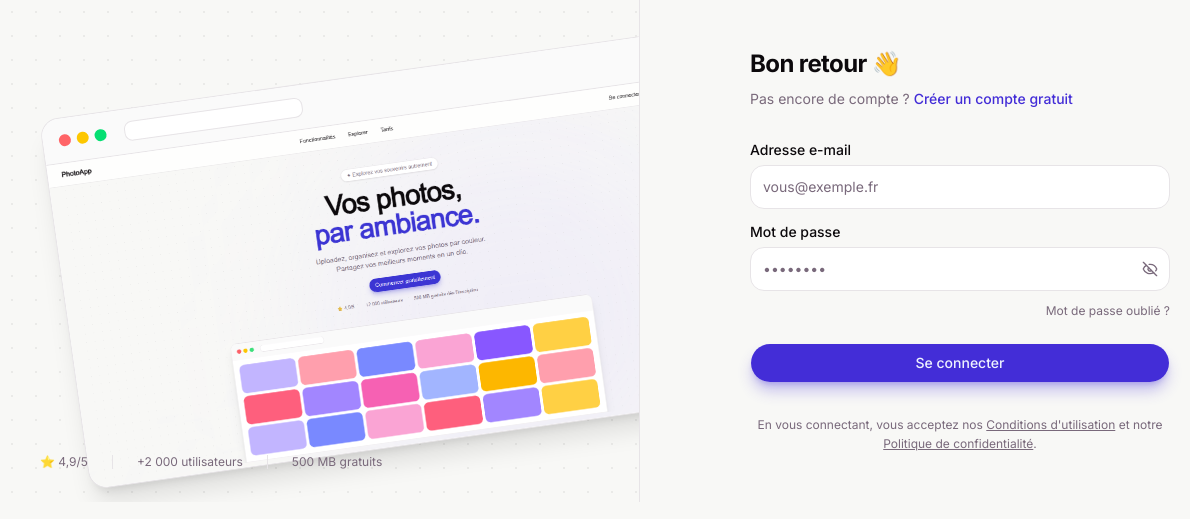
it: LoginPage › affiche "Connexion..." pendant la requête en attente
Type "user@example.com" into the field labelled "Adresse e-mail" at (960,187), box [750,165,1170,209]
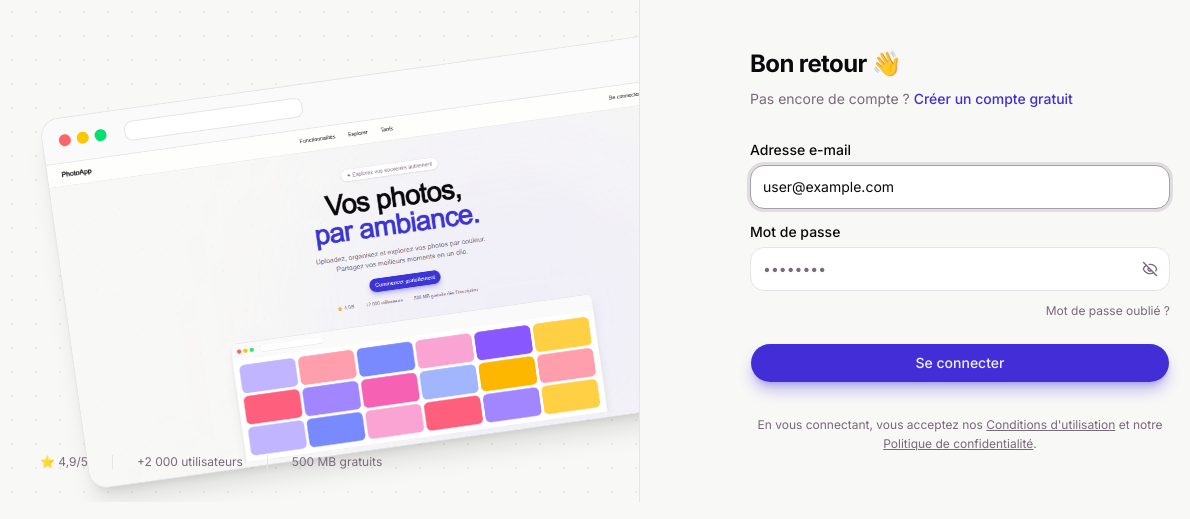
Type "Password123!" into the password field labelled "Mot de passe" at (960,269), box [750,247,1170,291]
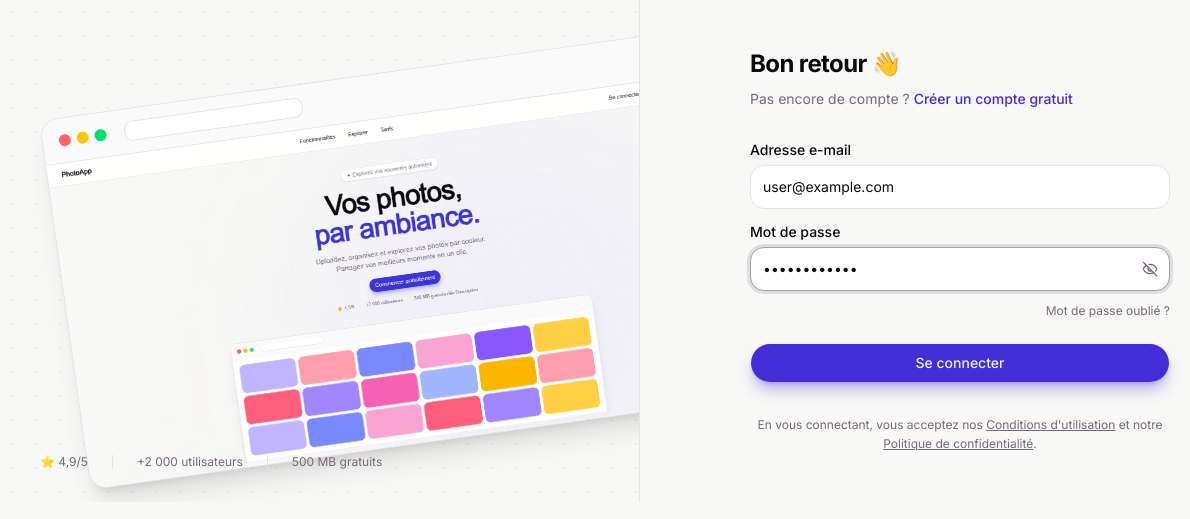
Click the button "Se connecter" at (960,363), box [750,343,1170,383]
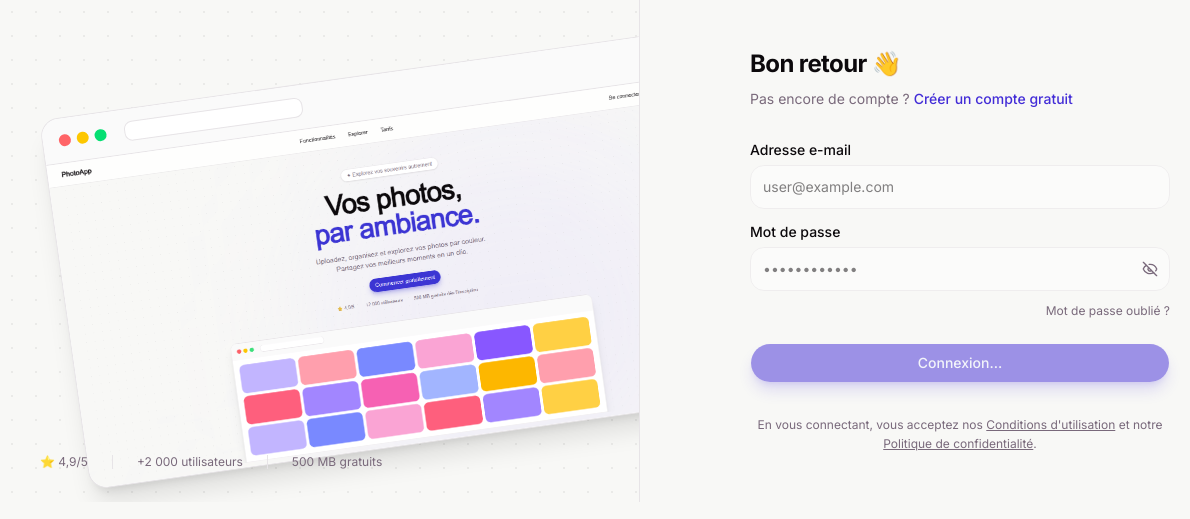
Expected: the button "Connexion..." is shown, [750,343,1170,383]
